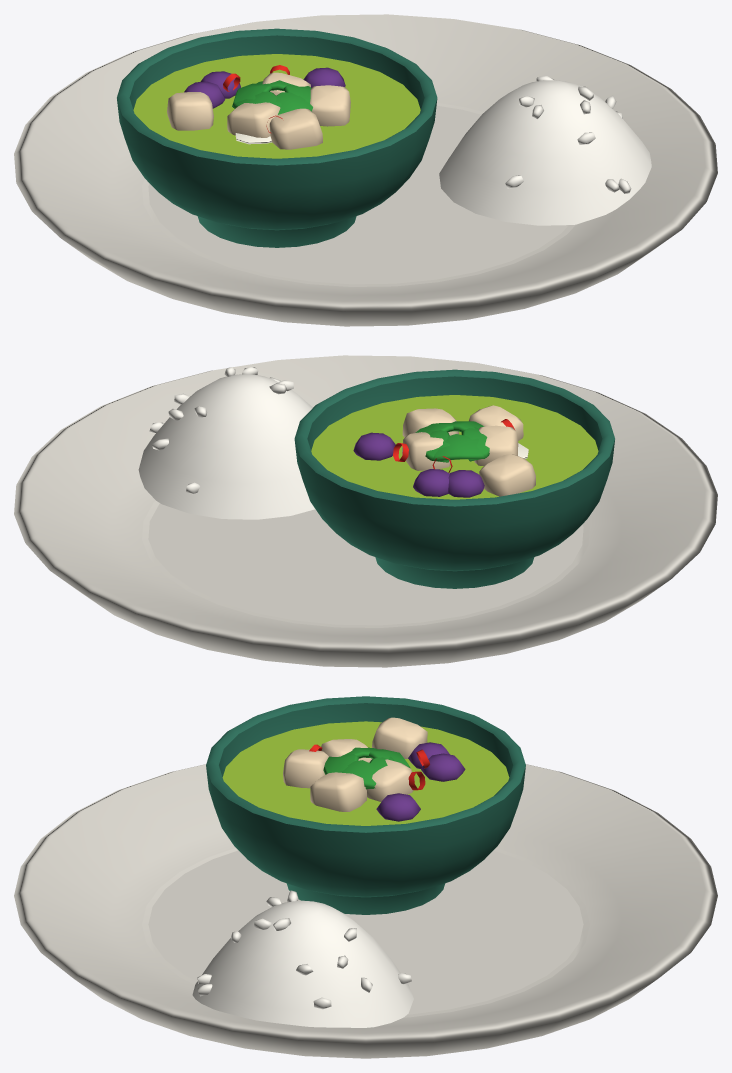
3 renders of one model, top to bottom at view 1: azimuth 30°, elevation 25°; view 2: azimuth 150°, elevation 25°; view 3: azimuth 270°, elevation 25°, orthographic.
Parts seen in each view (by area): view 1: plate, plate_well, rice, bowl_outer, curry, chicken, bowl_rim, bowl_inner, basil, eggplant, rice_grains; view 2: plate, plate_well, bowl_outer, rice, curry, bowl_rim, chicken, bowl_inner, eggplant, basil, rice_grains; view 3: plate, plate_well, bowl_outer, rice, curry, chicken, bowl_rim, bowl_inner, eggplant, rice_grains, basil.
Part boxes in pixels (x1=…): plate: x1=14, y1=14, x2=717, y2=326; plate_well: x1=148, y1=105, x2=568, y2=284; rice: x1=439, y1=80, x2=651, y2=225; bowl_outer: x1=117, y1=99, x2=437, y2=247; curry: x1=133, y1=54, x2=420, y2=158; chicken: x1=167, y1=72, x2=350, y2=149; bowl_rim: x1=117, y1=28, x2=437, y2=165; bowl_inner: x1=129, y1=35, x2=424, y2=109; basil: x1=232, y1=80, x2=312, y2=114; eggplant: x1=184, y1=67, x2=345, y2=108; rice_grains: x1=505, y1=76, x2=631, y2=193; plate: x1=14, y1=355, x2=717, y2=667; plate_well: x1=148, y1=503, x2=583, y2=625; bowl_outer: x1=294, y1=440, x2=614, y2=588; rice: x1=138, y1=374, x2=315, y2=519; curry: x1=311, y1=395, x2=598, y2=499; bowl_rim: x1=294, y1=369, x2=614, y2=506; chicken: x1=402, y1=405, x2=535, y2=496; bowl_inner: x1=307, y1=376, x2=602, y2=450; eggplant: x1=353, y1=432, x2=484, y2=497; basil: x1=415, y1=421, x2=489, y2=462; rice_grains: x1=149, y1=367, x2=293, y2=494; plate: x1=14, y1=764, x2=717, y2=1058; plate_well: x1=148, y1=850, x2=583, y2=1014; bowl_outer: x1=206, y1=766, x2=525, y2=914; rice: x1=192, y1=900, x2=413, y2=1027; curry: x1=222, y1=721, x2=509, y2=825; chicken: x1=283, y1=717, x2=427, y2=811; bowl_rim: x1=206, y1=696, x2=525, y2=832; bowl_inner: x1=219, y1=703, x2=512, y2=776; eggplant: x1=376, y1=742, x2=465, y2=821; rice_grains: x1=197, y1=890, x2=411, y2=1009; basil: x1=323, y1=747, x2=410, y2=789.
Bounding box in the file's own units: 0.22 × 0.0514 × 0.22.
